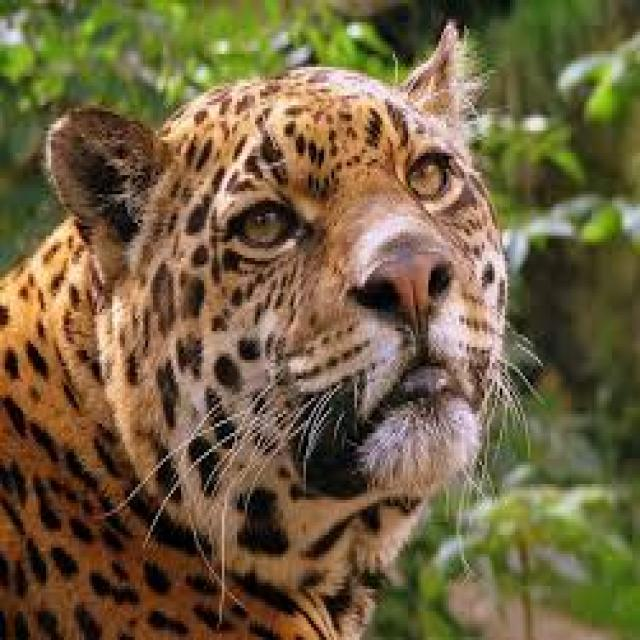Jaguar: (0, 19, 513, 640)
